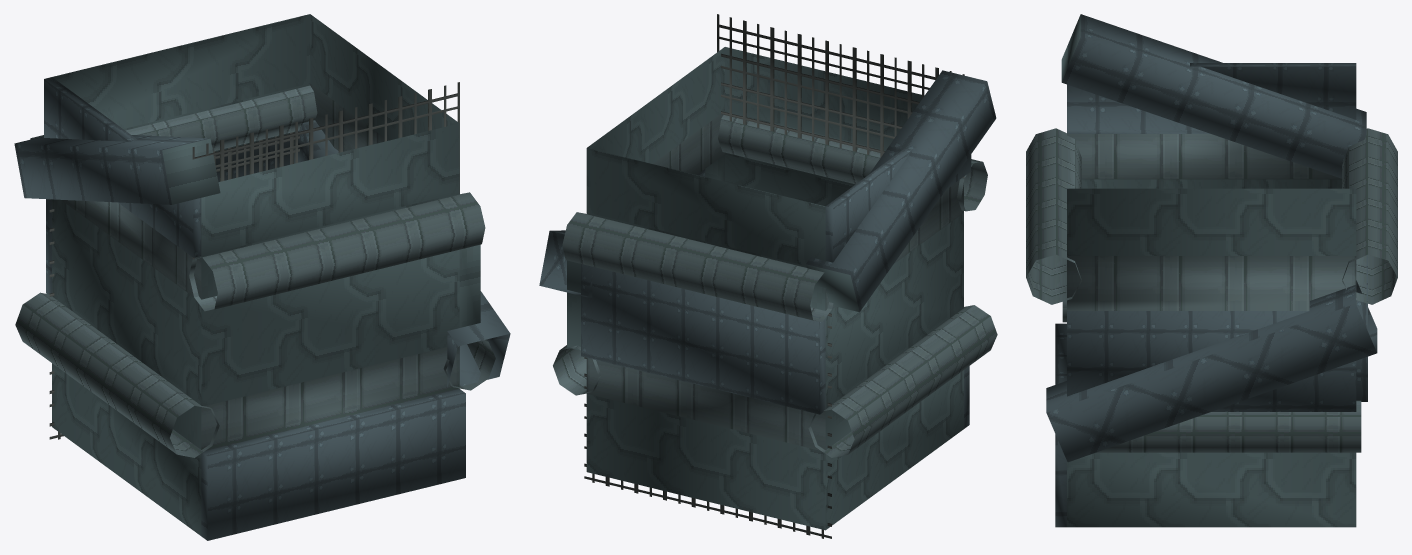
File: RoomBase3.glb
3 renders of one model, left to right at view 1: azimuth 30°, elevation 25°; view 2: azimuth 150°, elevation 25°; view 3: azimuth 270°, elevation 25°, orthographic. The views are drawn at different scales.
Parts seen in each view (by area): view 1: Cube.001; view 2: Cube.001; view 3: Cube.001.
Boxes of the visible parts, x1,y1,x2,y2 form: Cube.001: (14, 14, 510, 540); Cube.001: (539, 14, 997, 538); Cube.001: (1026, 14, 1397, 527).
Bounding box in the file's own units: 9.64 × 11.11 × 9.65.
4 materials, 4 textured.
